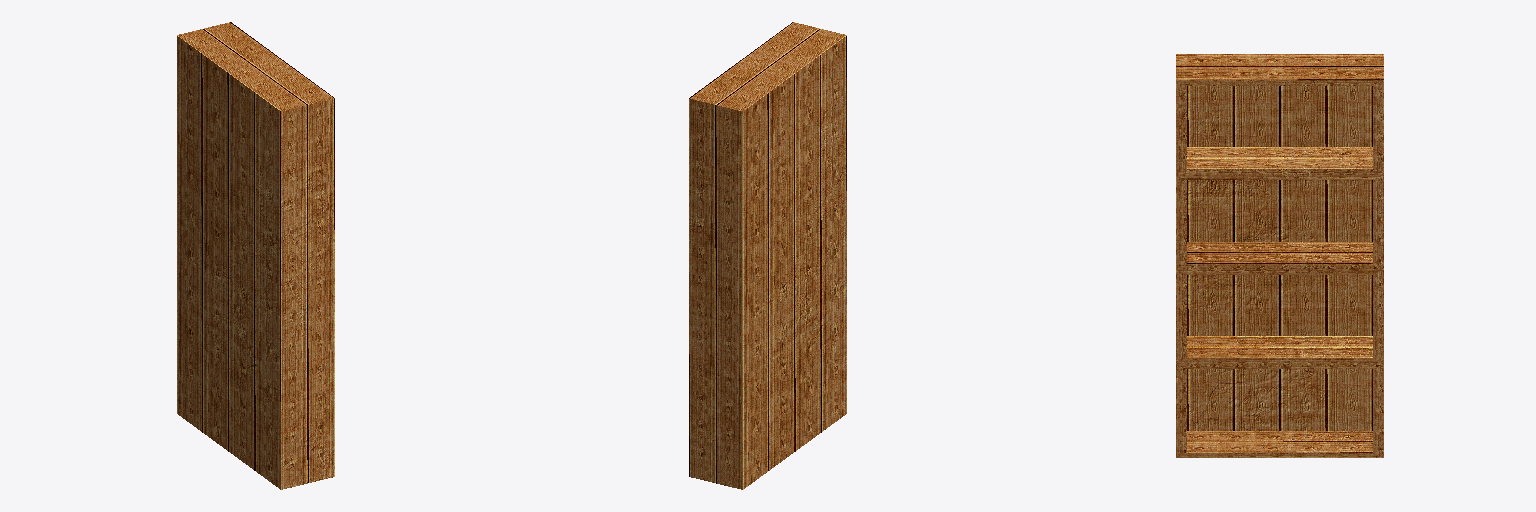
3 views of the same model, side by side, from view 1: azimuth 30°, elevation 25°; view 2: azimuth 150°, elevation 25°; view 3: azimuth 270°, elevation 25° (orthographic).
Visible parts, largest first — view 1: shelf; view 2: shelf; view 3: shelf.
Part boxes in pixels (bbox=[...]): shelf: bbox=[177, 22, 334, 489]; shelf: bbox=[689, 22, 846, 489]; shelf: bbox=[1176, 54, 1383, 457].
Size of the model in its own units: 0.6 by 4 by 2.
Materials: 1 (1 with a texture image).